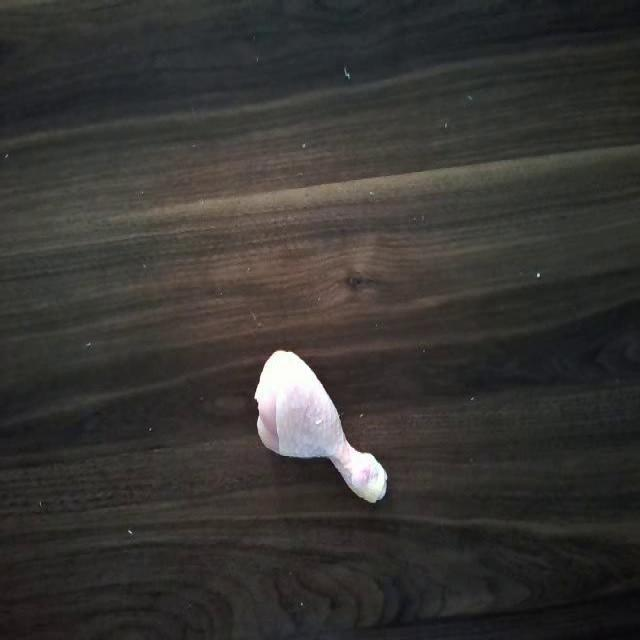leg: (248, 342, 396, 507)
